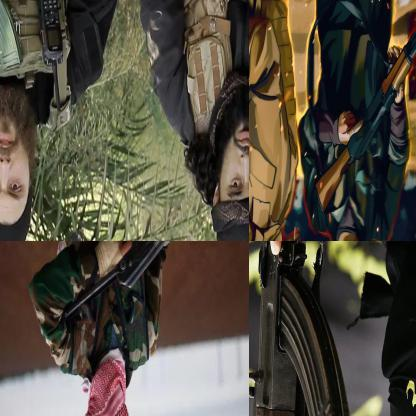rifle: (314, 0, 415, 214), (249, 241, 355, 415), (60, 241, 248, 323)
